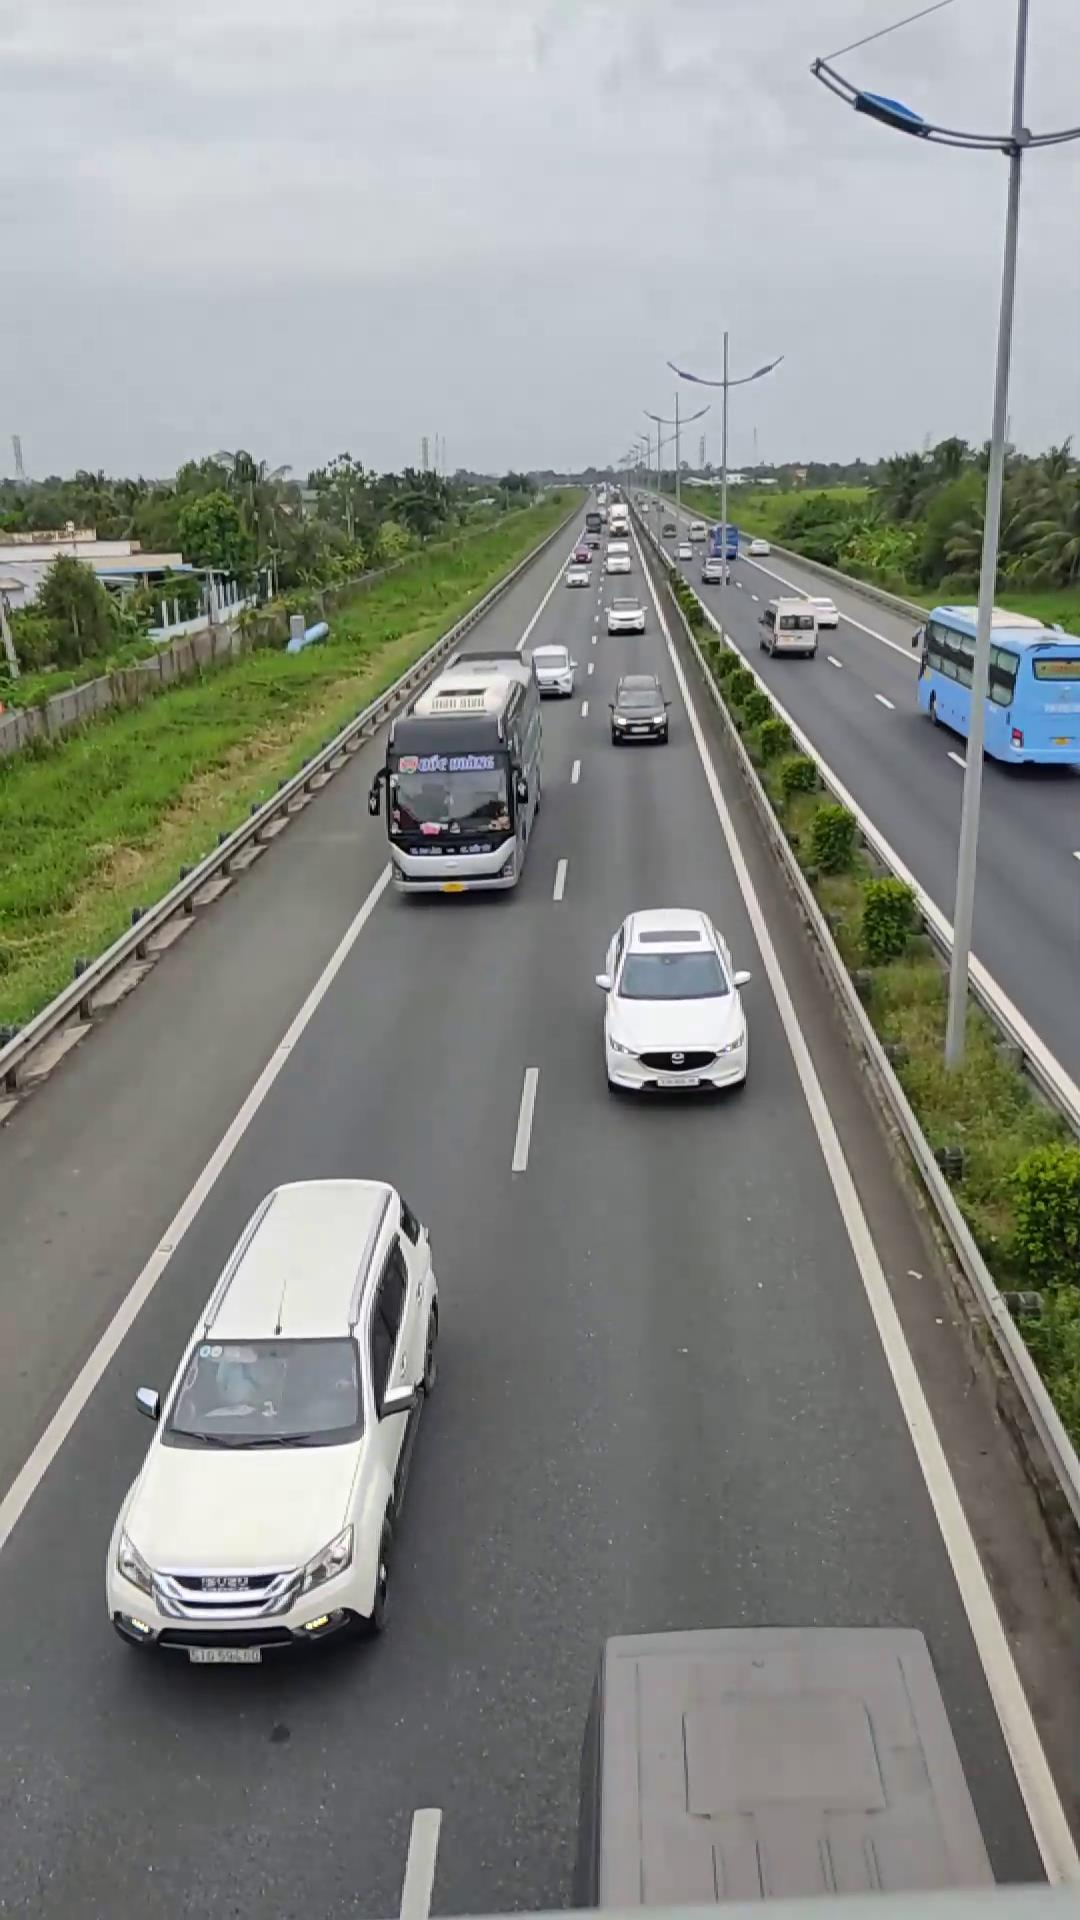bus: (371, 651, 547, 899)
car: (102, 1174, 442, 1663), (594, 905, 752, 1099), (606, 675, 670, 743)
